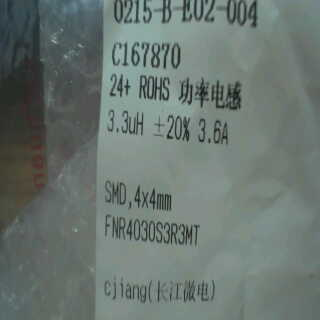3.3uH: (105, 100, 149, 148)
